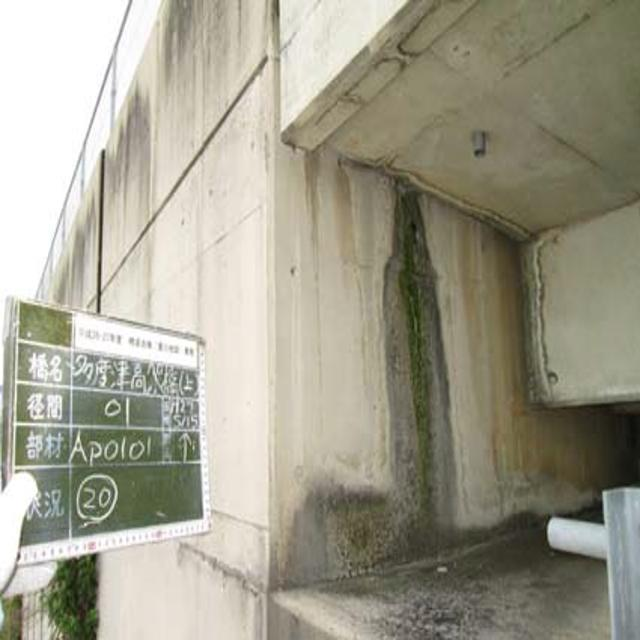leakage: (353, 182, 478, 572)
